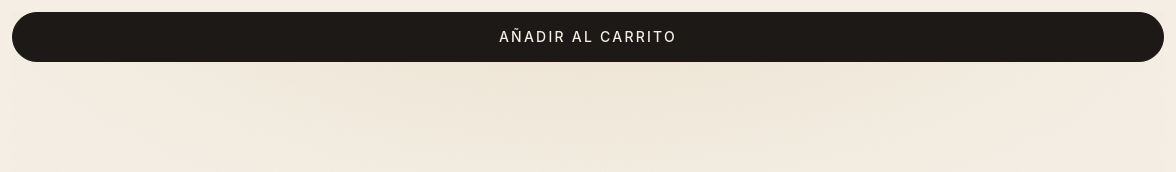
Scenario: AnadirAlCarrito › no deja superar el stock
Click the button "Añadir al carrito" at [588, 37], box [12,12,1164,62]
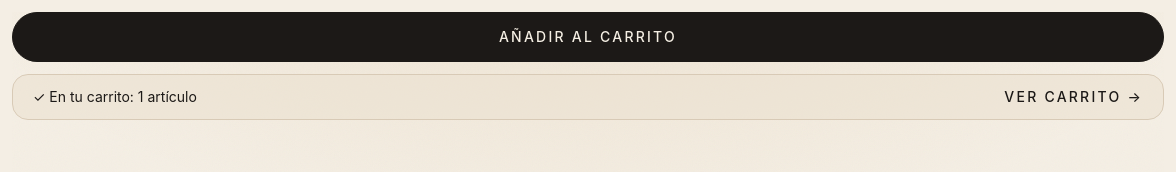
Click the button "Añadir al carrito" at [588, 37], box [12,12,1164,62]
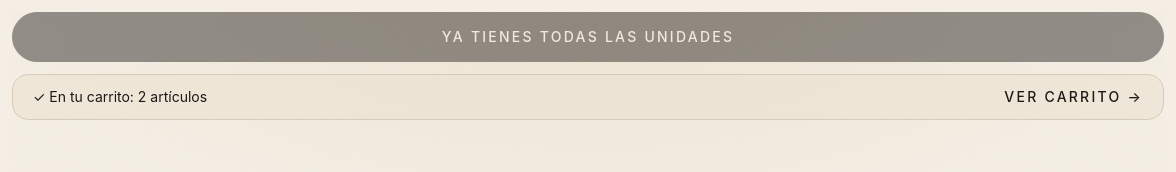
Result: the button "Ya tienes todas las unidades" is disabled at [12,12,1164,62]
